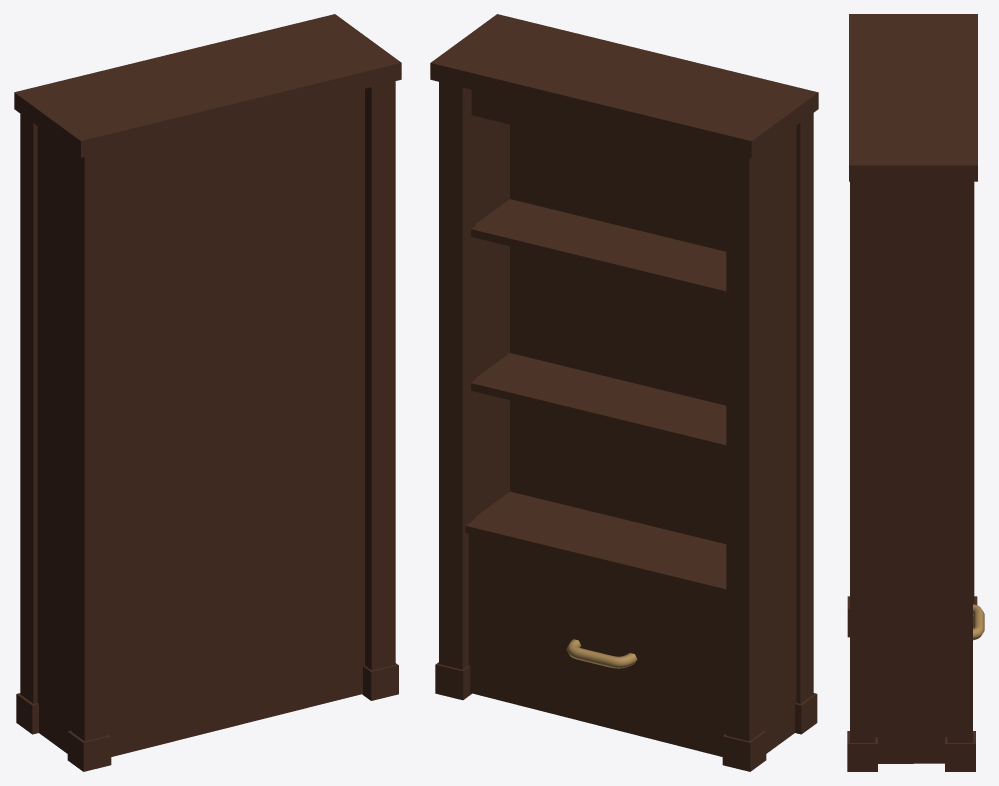
Rendered from Single Shelf.fbx.
The picture shows the model from 3 angles, left to right: view 1: azimuth 30°, elevation 25°; view 2: azimuth 150°, elevation 25°; view 3: azimuth 270°, elevation 25°; orthographic projection. The views are drawn at different scales.
Parts seen in each view (by area): view 1: Cube.027; view 2: Cube.027, NurbsPath.004; view 3: Cube.027, NurbsPath.004.
Part boxes in pixels (x1,y1,x2,y2): Cube.027: (14, 14, 401, 771); Cube.027: (430, 14, 818, 771); NurbsPath.004: (566, 639, 637, 668); Cube.027: (847, 14, 977, 771); NurbsPath.004: (973, 604, 984, 640).
Bounding box in the file's own units: 435 × 818 × 167.
